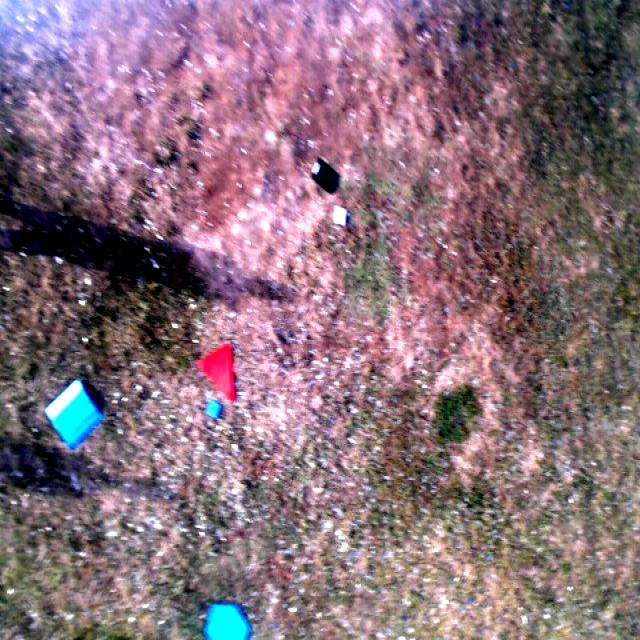blue_square: (46, 379, 104, 449)
red_triangle: (196, 345, 234, 403)
